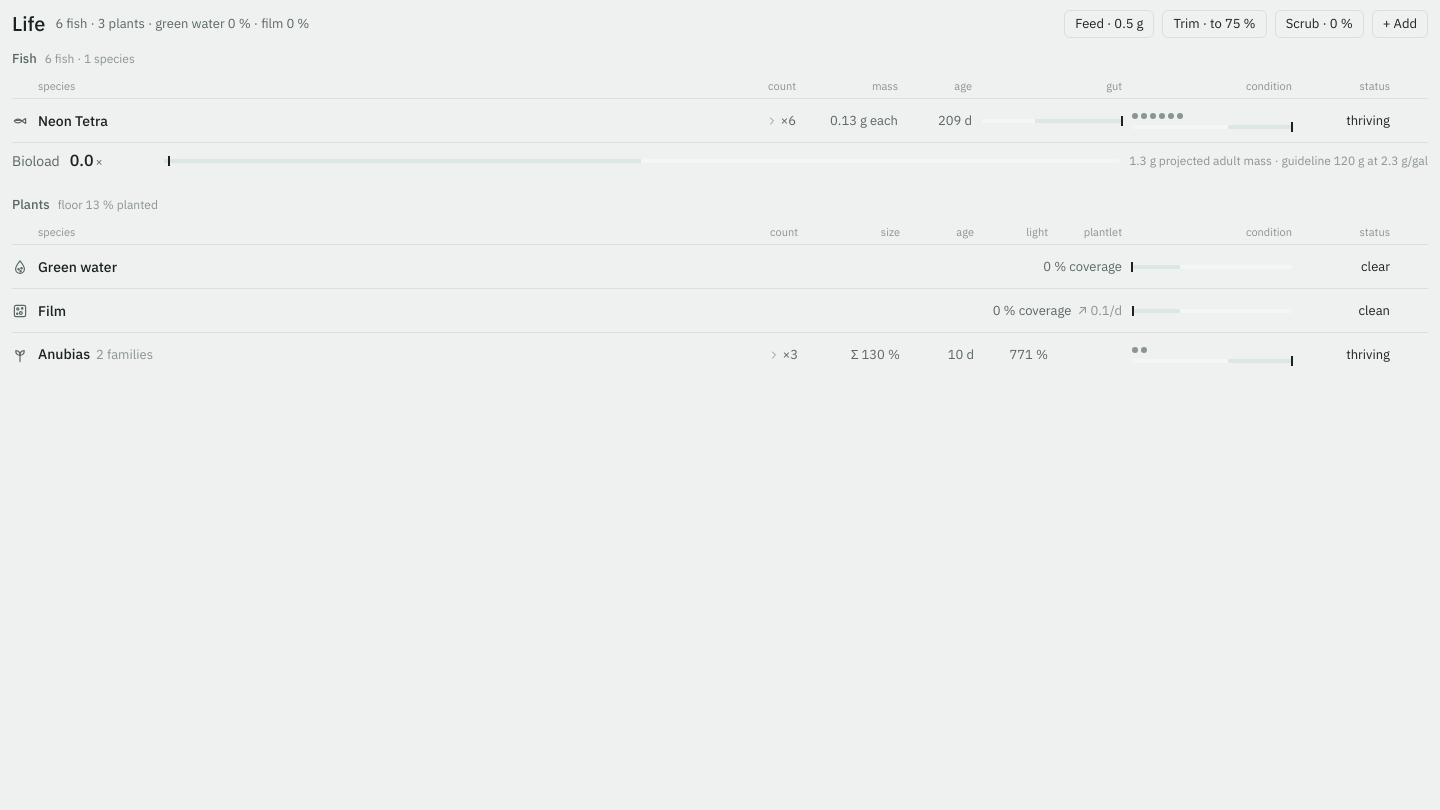
LifeSection › plant families › opens a family’s ledger on its worst unit, and says which
The width and height of the screenshot is (1440, 810).
Click the button named "Anubias — 3, thriving".
click(720, 354)  # box [12,333,1428,376]
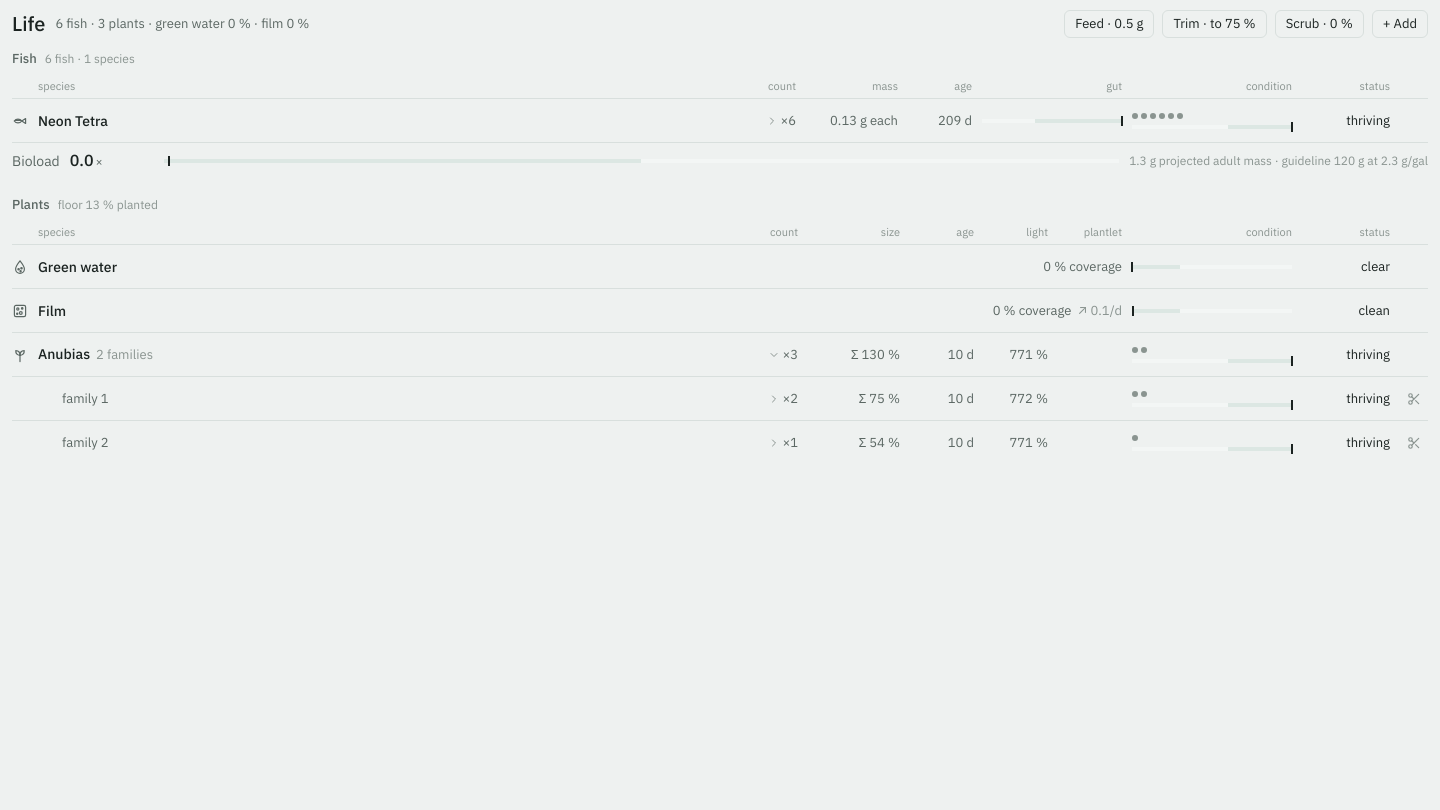
Click the button "thriving" in the row of "772 %".
click(1346, 398)  # box [1302,388,1390,408]
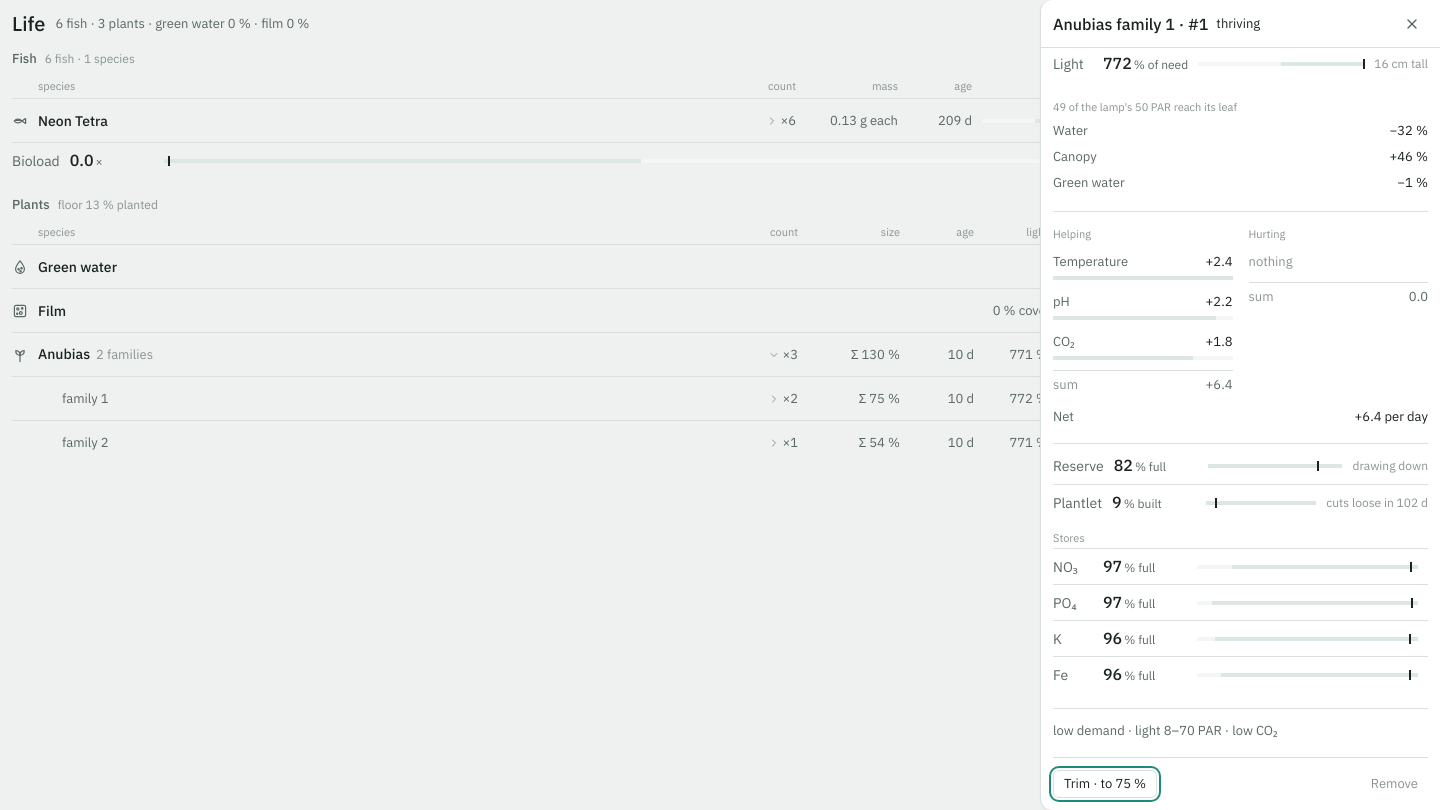
Expected: the text "% of need" is shown, [1134,56,1188,72]
Expected: the text "% built" is shown, [1124,496,1162,510]
Expected: the heading "Stores" is shown, [1053,531,1085,545]
